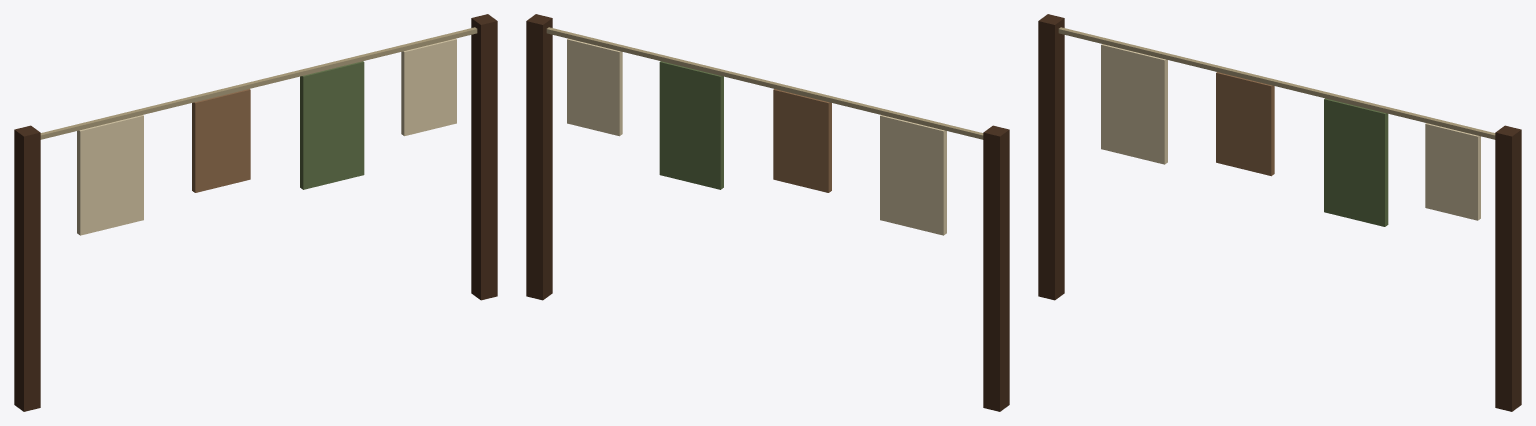
The model's file is prop_clothesline.glb.
The picture shows the model from 3 angles, left to right: view 1: azimuth 30°, elevation 25°; view 2: azimuth 150°, elevation 25°; view 3: azimuth 330°, elevation 25°; orthographic projection.
Parts seen in each view (by area): view 1: prop_clothesline; view 2: prop_clothesline; view 3: prop_clothesline.
Part boxes in pixels (bbox=[...]): prop_clothesline: bbox=[14, 14, 497, 411]; prop_clothesline: bbox=[526, 14, 1009, 411]; prop_clothesline: bbox=[1038, 14, 1521, 411].
Size of the model in its own units: 3.42 by 1.9 by 0.12.
